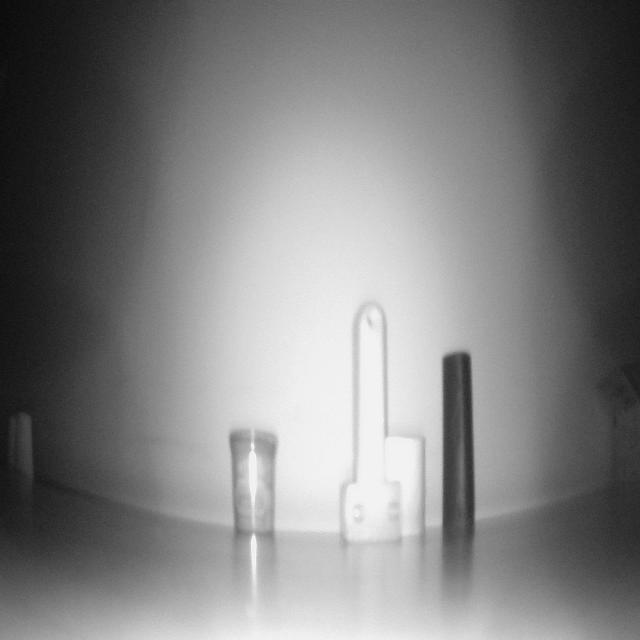targets: (340, 295, 404, 546), (432, 340, 478, 556), (230, 424, 288, 546), (597, 342, 640, 485), (380, 431, 427, 534), (5, 406, 44, 488)
